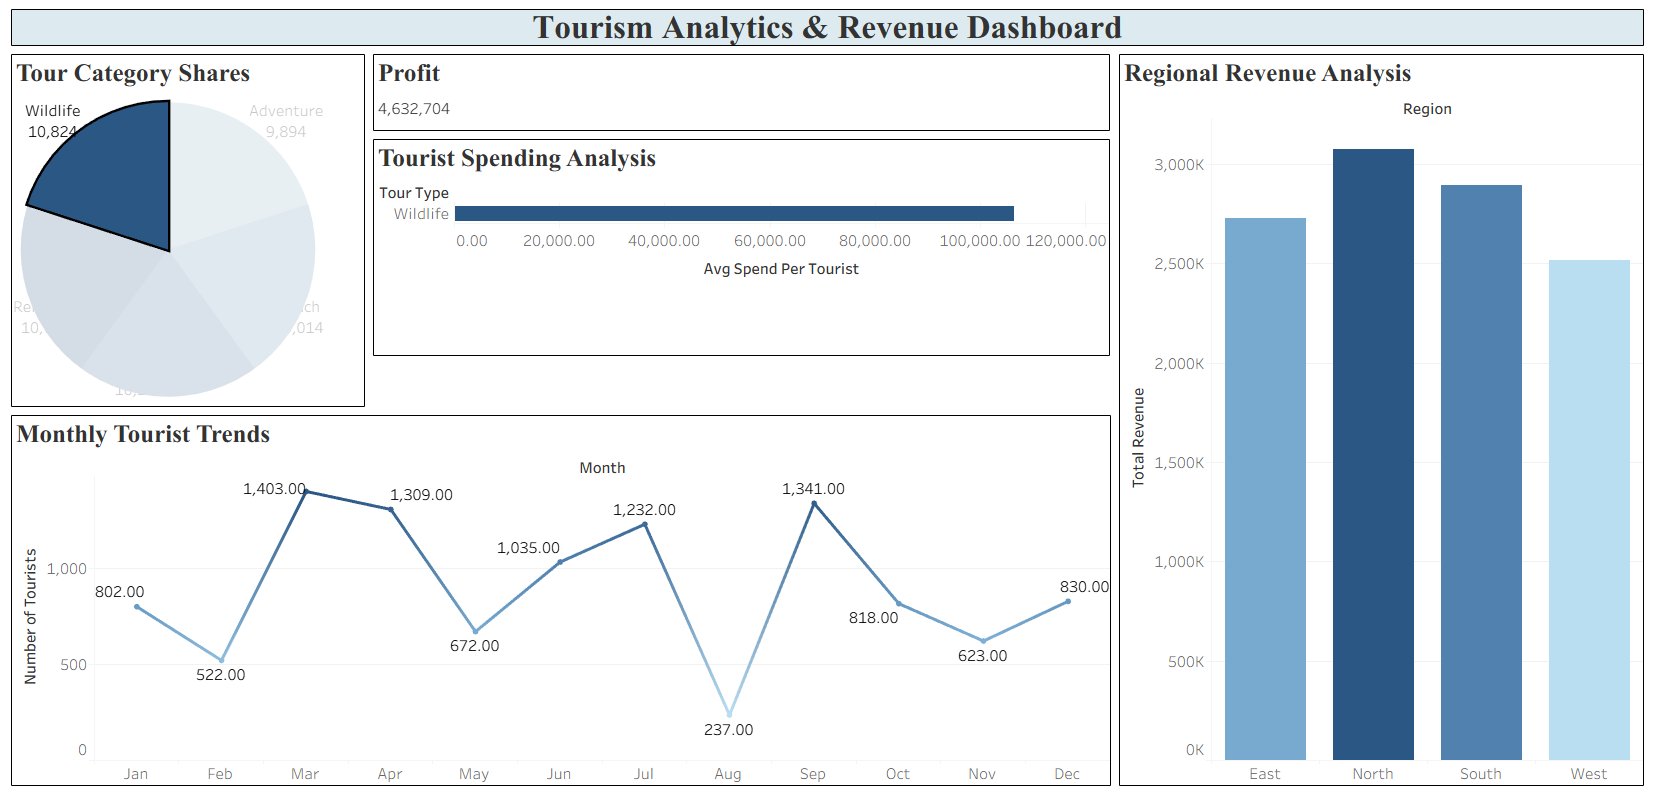

This screenshot's page, from the dashboard's own definition file:
{"tool":"tableau","page":{"name":"Dashboard 1","canvas":[1000,1000],"units":"permille","ordinal":0},"visuals":[{"type":"title","box":[4.8,10,990.3,56.2]},{"type":"worksheet","title":"Categories in Tours","mark":"Pie","box":[4.8,66.2,218.5,450.7]},{"type":"worksheet","title":"Profit","mark":"Automatic","box":[223.3,66.2,449.6,106.1]},{"type":"worksheet","title":"Revenue by Region","mark":"Automatic","rows":["Total_Revenue"],"cols":["Region"],"box":[673.5,66.2,321.7,923.8]},{"type":"worksheet","title":"spend per tourist","mark":"Automatic","rows":["Tour_Type"],"cols":["Avg_Spend_Per_Tourist"],"box":[223.3,172.3,449.6,280.9]},{"type":"worksheet","title":"Trend line of tourist","mark":"Line","rows":["Number_of_Tourists"],"cols":["Month"],"box":[4.8,516.9,668.7,473.2]}]}

Visuals, with their boxes on the dashboard's canvas, which has no fixed pixel size, in thousandths of its width and height (x1, y1, x2, y2). These are canvas units, not pixel positions in the 1656x796 screenshot, which may show the page scaled, cropped or inside an application window:
title: box=[5, 10, 995, 66]
"Categories in Tours" worksheet (Pie marks): box=[5, 66, 223, 517]
"Profit" worksheet: box=[223, 66, 673, 172]
"Revenue by Region" worksheet: box=[674, 66, 995, 990]
"spend per tourist" worksheet: box=[223, 172, 673, 453]
"Trend line of tourist" worksheet (Line marks): box=[5, 517, 674, 990]
